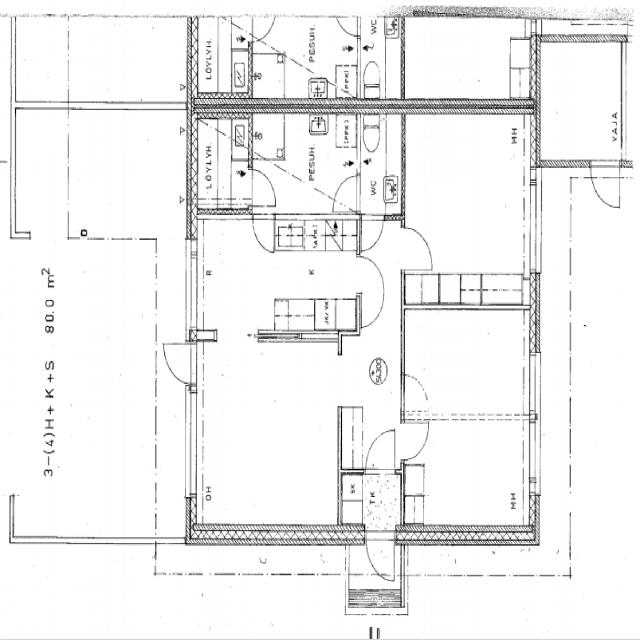door: (365, 421, 431, 472), (400, 221, 436, 275), (588, 158, 622, 210), (365, 528, 397, 582), (363, 426, 398, 474), (162, 339, 196, 386), (400, 369, 432, 418), (399, 419, 432, 464), (356, 252, 386, 298), (331, 172, 362, 214), (250, 166, 278, 208), (251, 210, 276, 255), (359, 213, 385, 254), (358, 296, 384, 327), (255, 14, 276, 46), (1, 491, 14, 540), (336, 12, 358, 38)
window: (182, 390, 202, 505), (521, 179, 543, 278), (524, 418, 542, 498), (397, 311, 409, 379), (421, 570, 446, 579)
zone: (403, 114, 531, 304), (192, 224, 360, 337), (402, 306, 532, 421), (68, 107, 183, 235), (405, 419, 534, 531), (251, 110, 359, 213), (536, 40, 624, 165), (249, 16, 358, 102), (12, 105, 70, 238), (194, 114, 251, 214), (357, 110, 404, 217), (192, 18, 250, 102), (14, 19, 69, 104), (358, 19, 404, 103)
